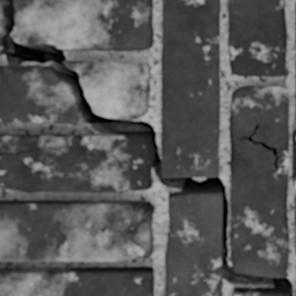brick: (230, 85, 288, 275), (161, 0, 219, 176), (0, 201, 151, 260), (0, 135, 150, 191), (165, 191, 221, 295), (0, 267, 152, 295), (229, 0, 286, 74), (234, 287, 287, 295), (293, 130, 295, 186)
broken_brick: (13, 0, 153, 50), (0, 64, 88, 124), (65, 59, 150, 119), (0, 0, 3, 34), (0, 45, 6, 54)
crack: (0, 0, 293, 295)
